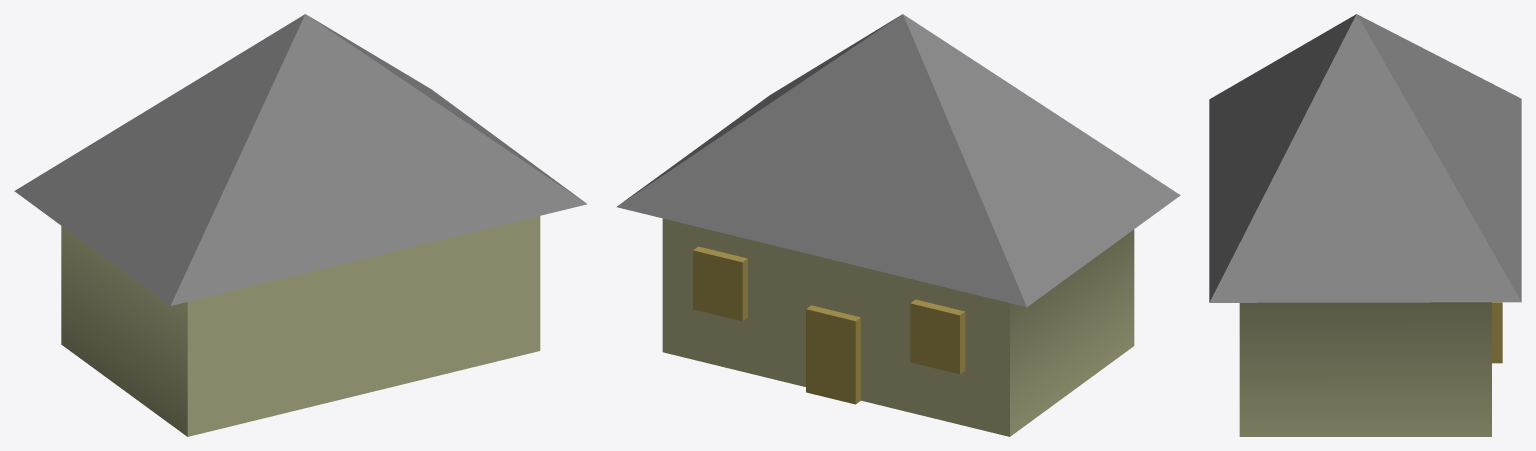
The model's file is House.fbx.
3 renders of one model, left to right at view 1: azimuth 30°, elevation 25°; view 2: azimuth 150°, elevation 25°; view 3: azimuth 270°, elevation 25°, orthographic.
Visible parts, largest first — view 1: House; view 2: House; view 3: House.
Boxes of the visible parts, bbox=[...] form: House: bbox=[14, 14, 587, 436]; House: bbox=[616, 14, 1180, 436]; House: bbox=[1209, 14, 1521, 436].
Bounding box in the file's own units: 11.83 × 9.13 × 7.67.
